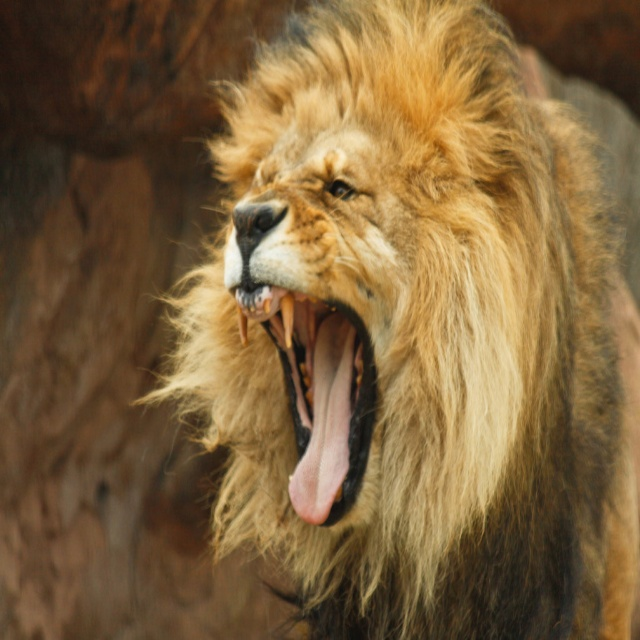Lion: (130, 0, 640, 640)
